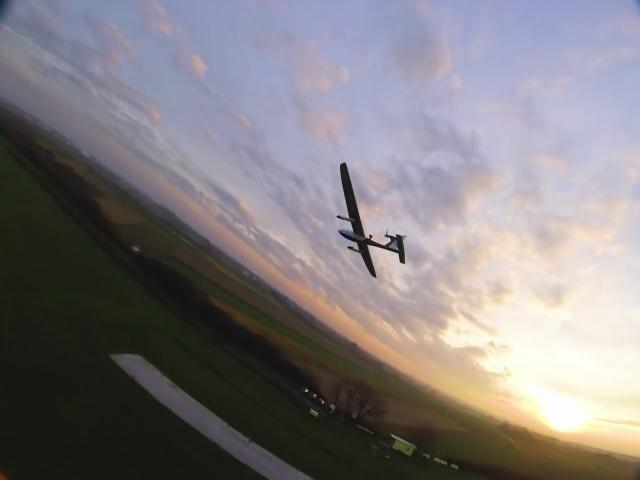Airplane: (330, 154, 416, 293)
